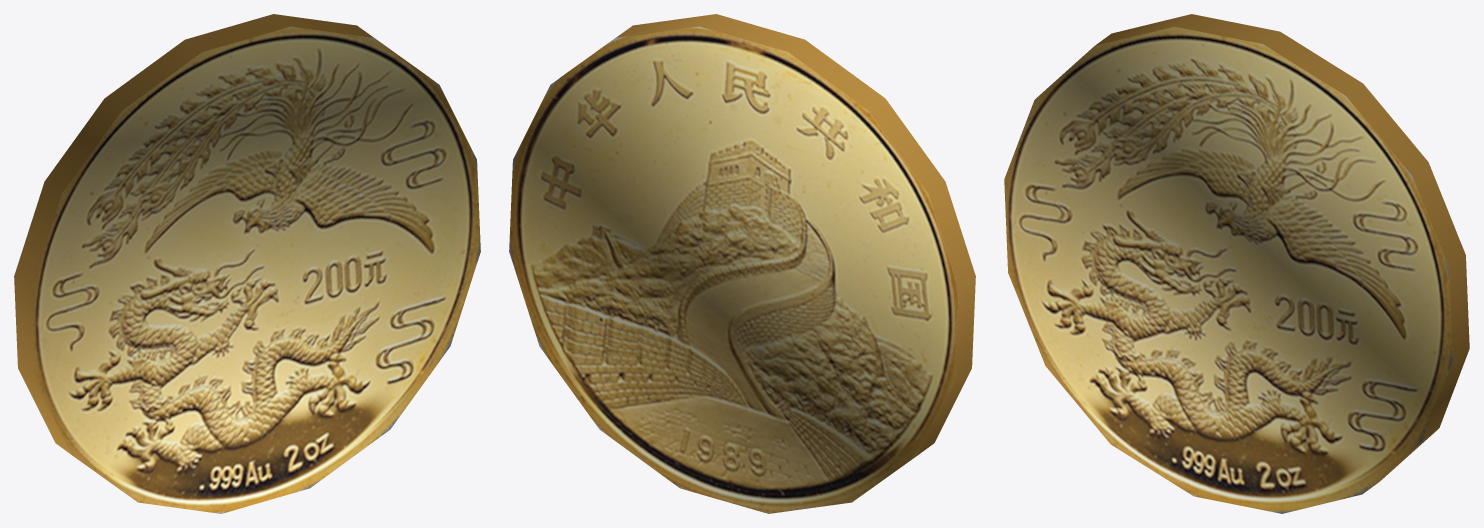
Rendered from moneta.obj.
The picture shows the model from 3 angles, left to right: view 1: azimuth 30°, elevation 25°; view 2: azimuth 150°, elevation 25°; view 3: azimuth 330°, elevation 25°; orthographic projection.
Visible parts, largest first — view 1: moneta_Circle.007; view 2: moneta_Circle.007; view 3: moneta_Circle.007.
Part boxes in pixels (x1,y1,x2,y2): moneta_Circle.007: (14, 14, 480, 513); moneta_Circle.007: (509, 14, 975, 513); moneta_Circle.007: (1004, 14, 1469, 513).
Size of the model in its own units: 1.46 by 1.46 by 0.0967.
